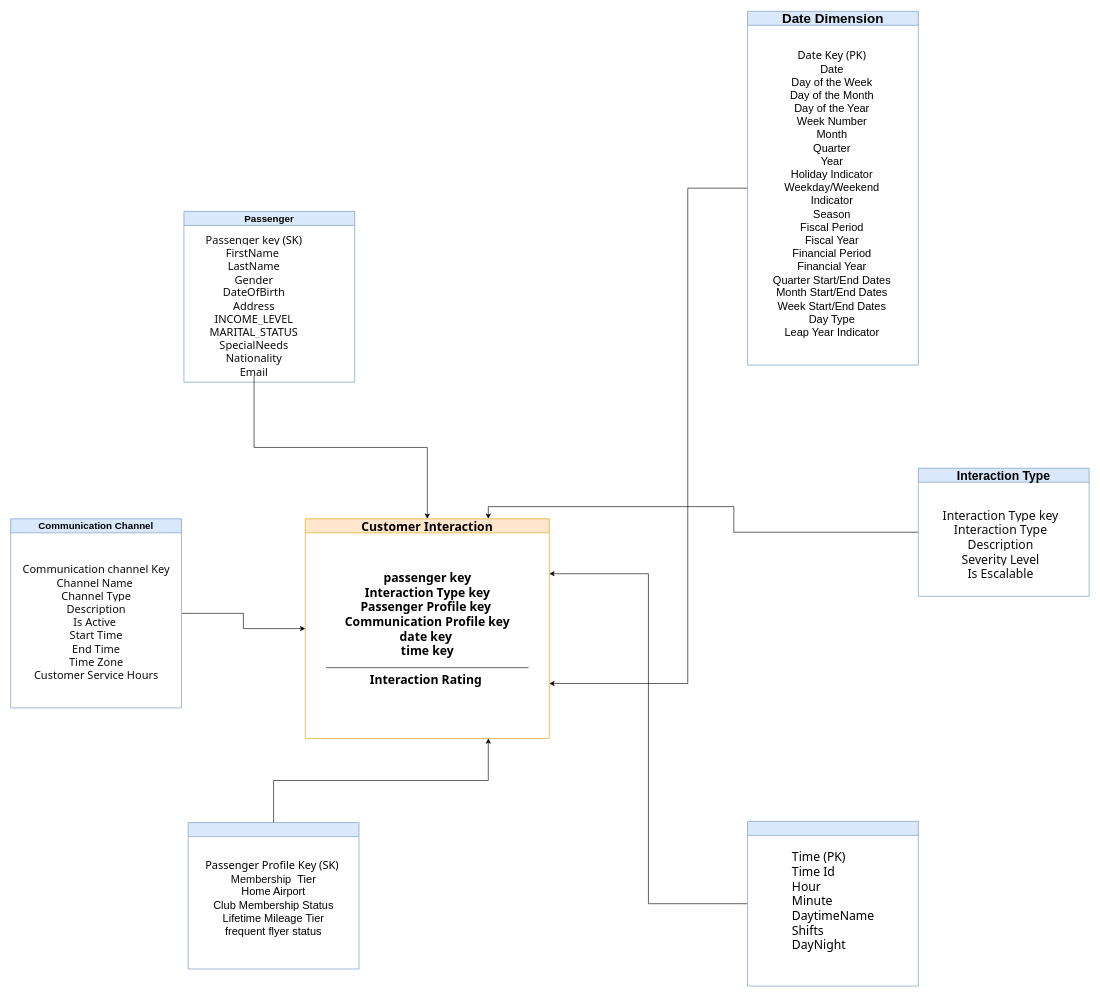
Image size: 1100x997. Some labels were removed from this diagram. Each missing label, with the box of its shape:
Passenger Profile Dimension: (188, 822, 359, 969)
Time Dimension: (747, 821, 918, 986)
